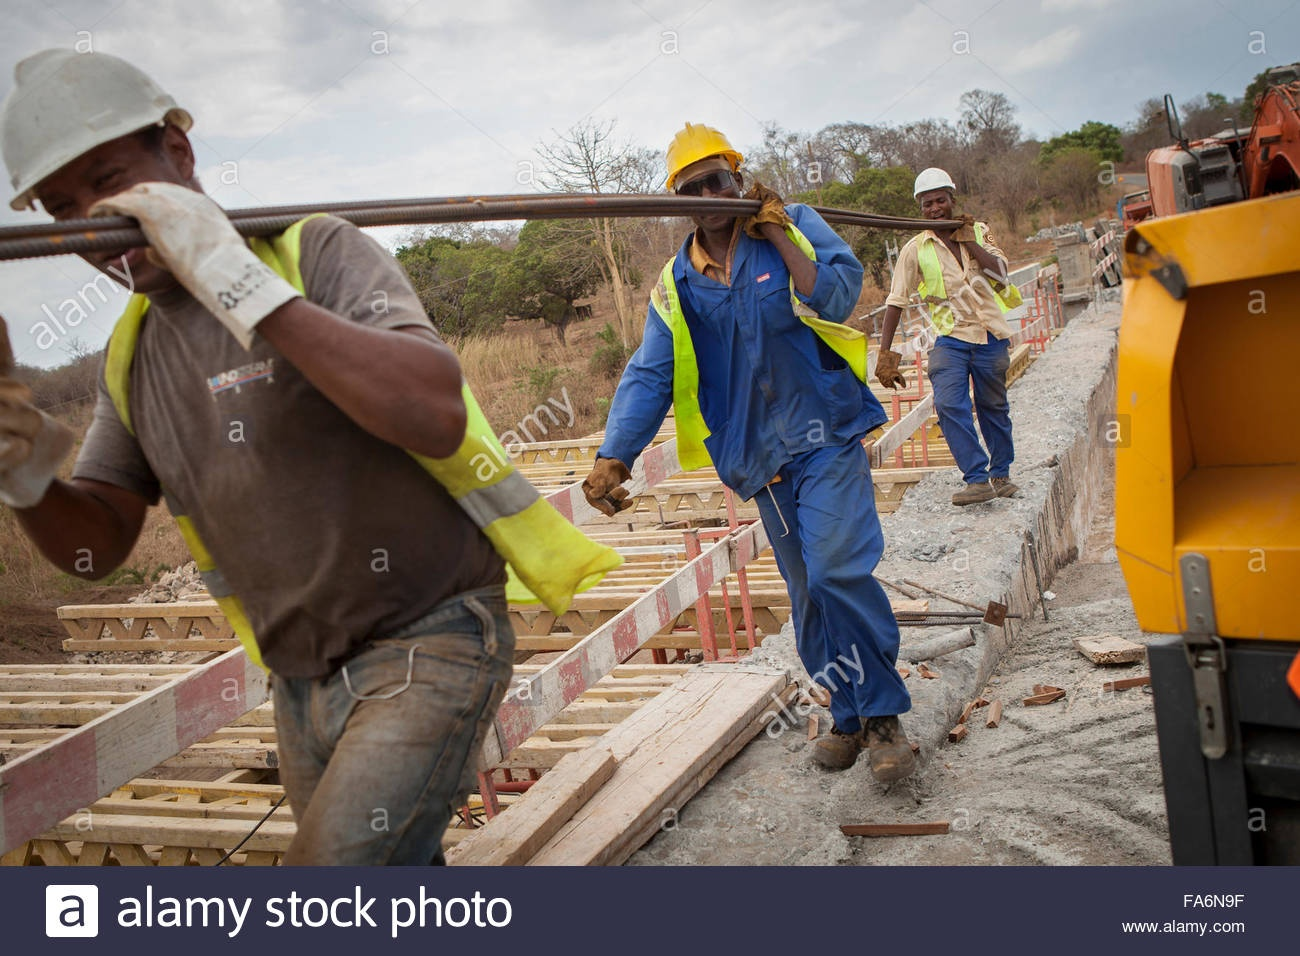white: (7, 47, 215, 290), (911, 162, 957, 228)
yellow: (657, 116, 752, 231)
